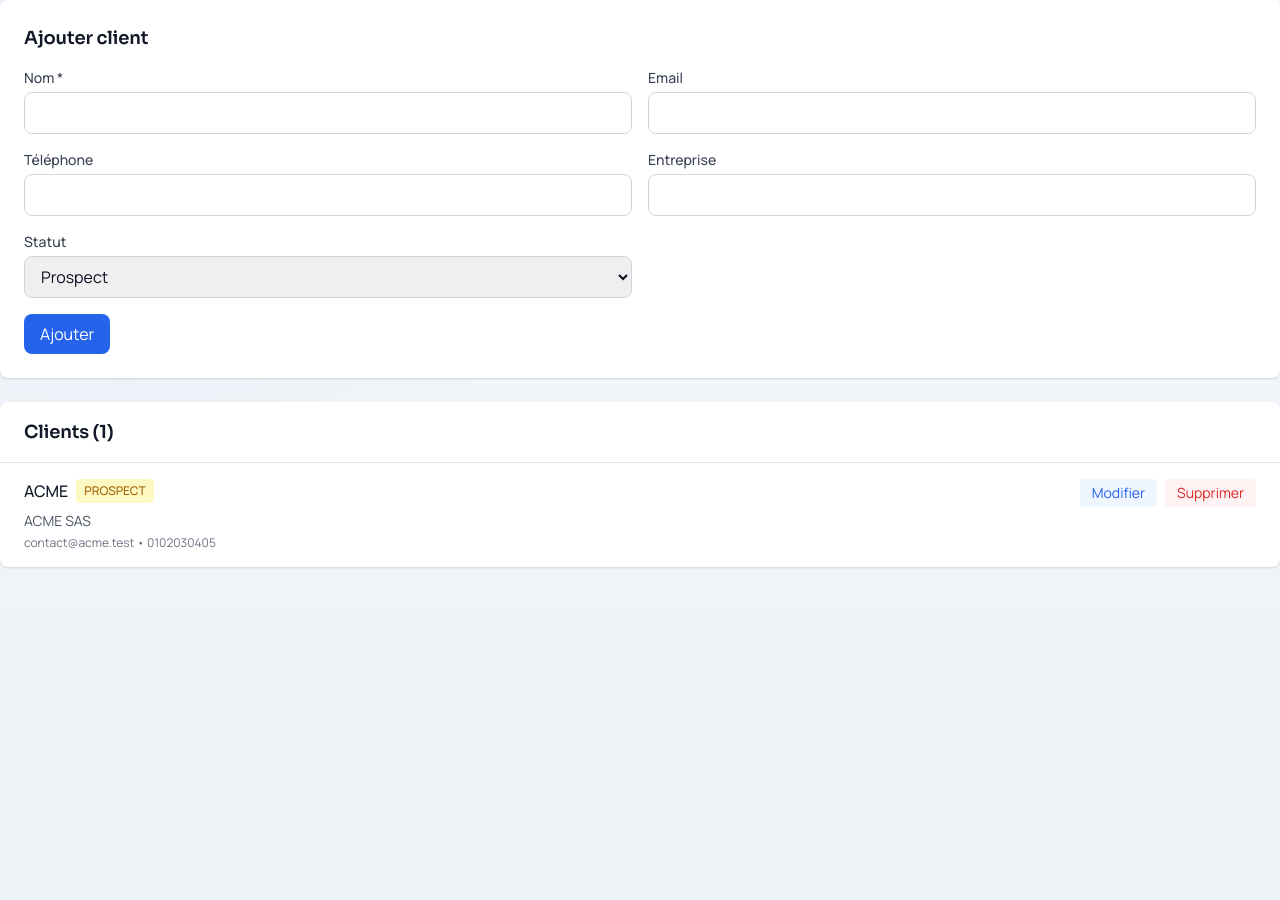
Test case: ClientList › supprime un client et affiche un toast de succes
Click the button "Supprimer" at [1211, 493], box left=1165, top=479, right=1256, bottom=507
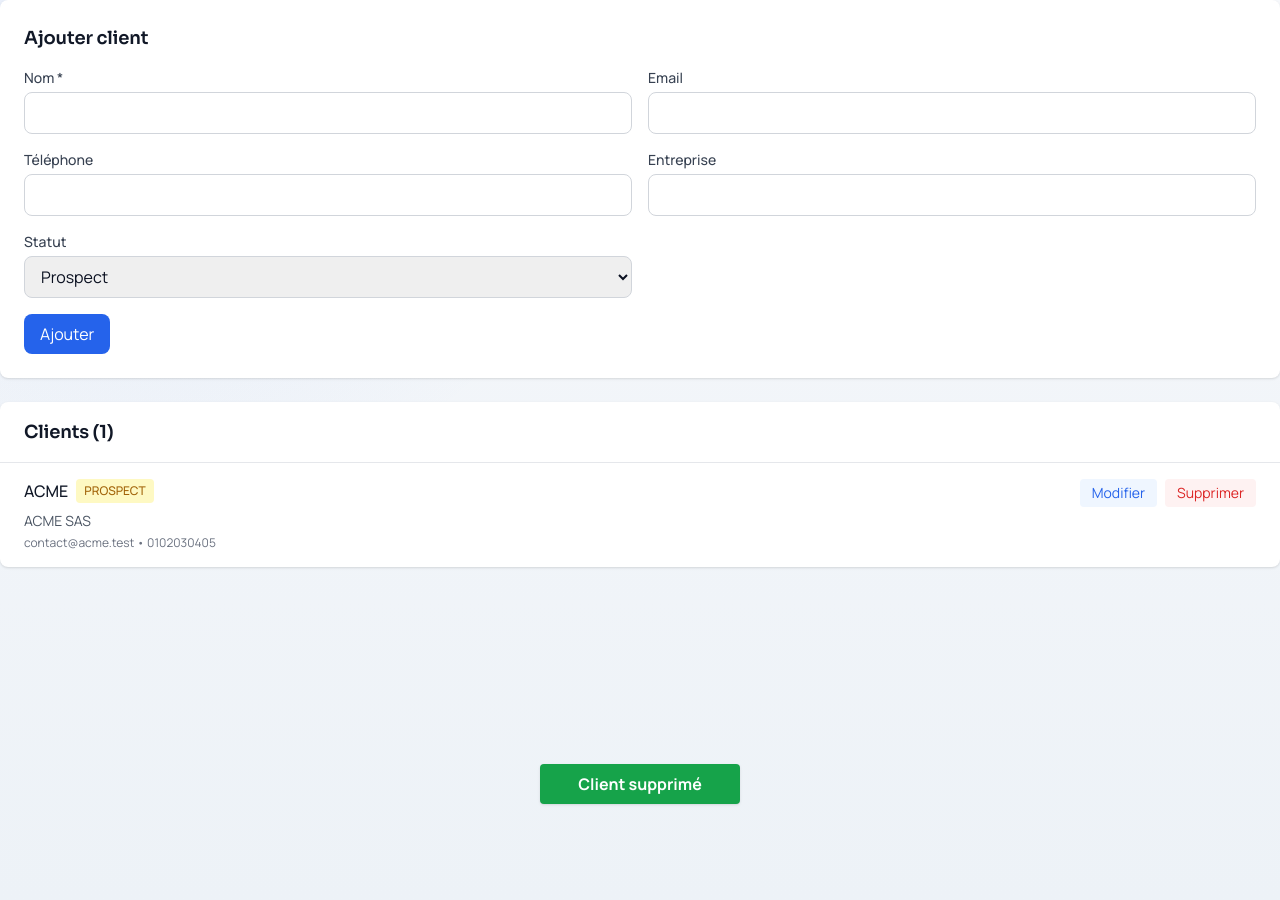
expect the text "Client supprimé" is shown: met, box left=540, top=764, right=740, bottom=804
